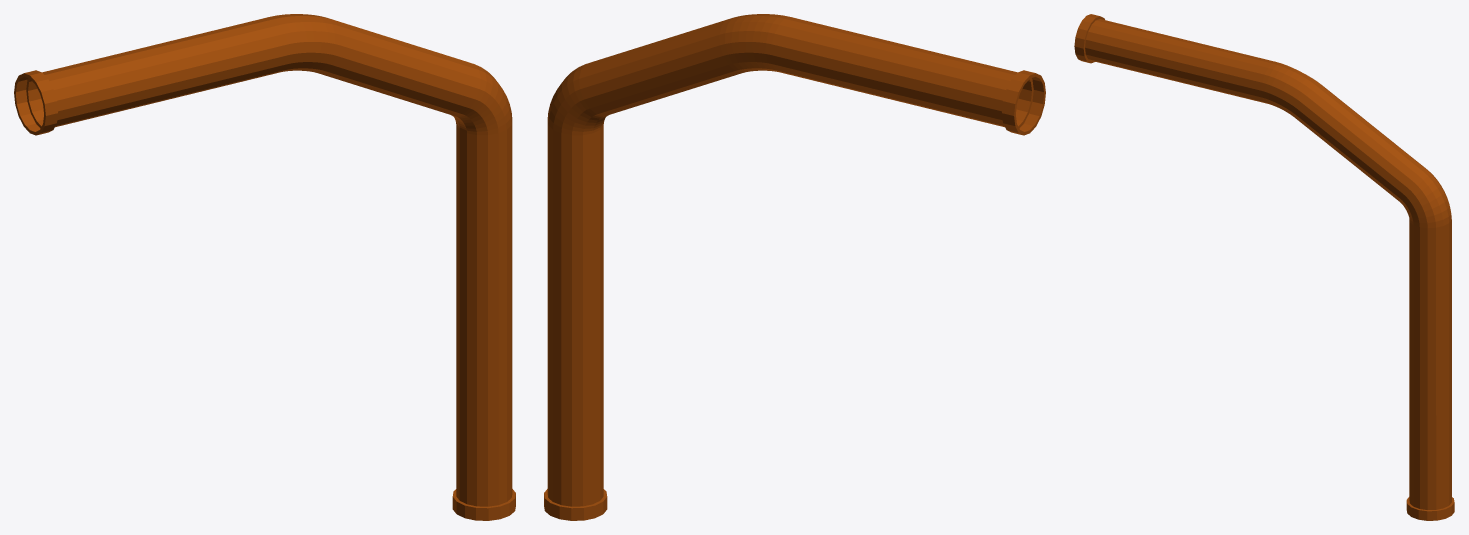
The model's file is Pipe6.fbx.
3 renders of one model, left to right at view 1: azimuth 30°, elevation 25°; view 2: azimuth 150°, elevation 25°; view 3: azimuth 330°, elevation 25°, orthographic. The views are drawn at different scales.
Visible parts, largest first — view 1: Plane; view 2: Plane; view 3: Plane.
Boxes of the visible parts, box(x1,y1,x2,y2) form: Plane: box(14, 14, 515, 520); Plane: box(544, 14, 1045, 520); Plane: box(1074, 14, 1454, 520).
Size of the model in its own units: 1962 by 2112 by 225.
